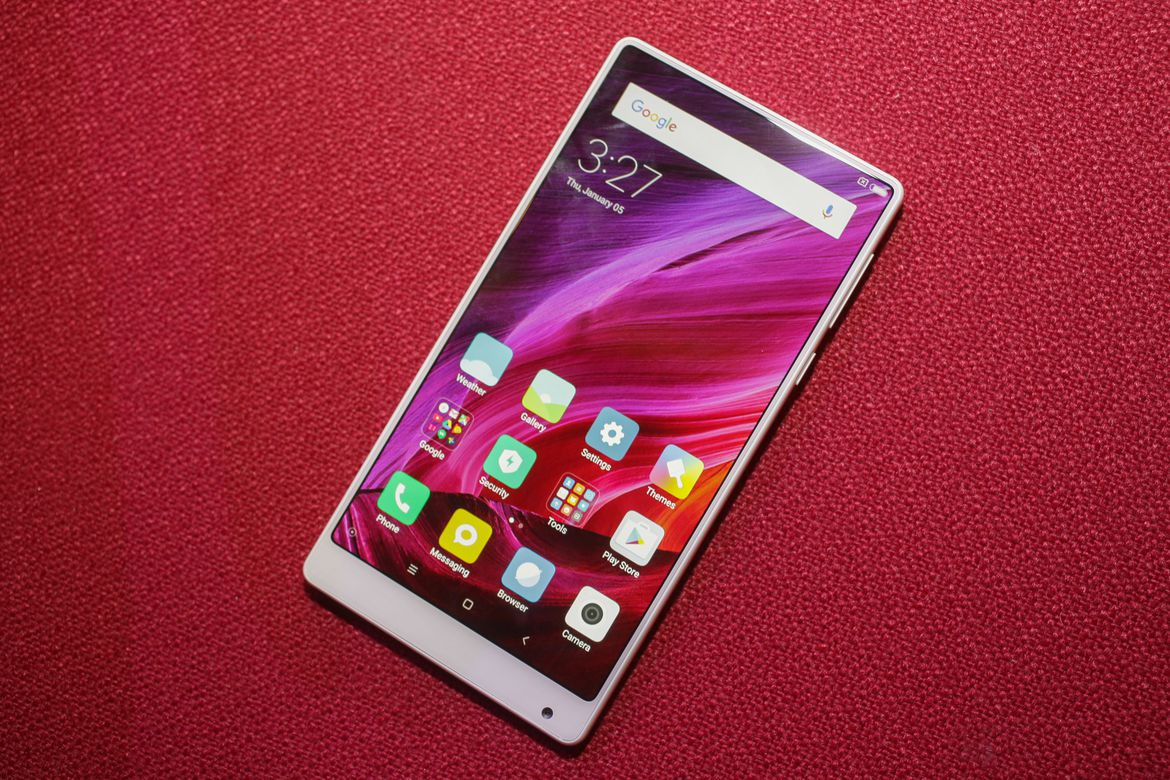smartphone: (300, 35, 905, 747)
